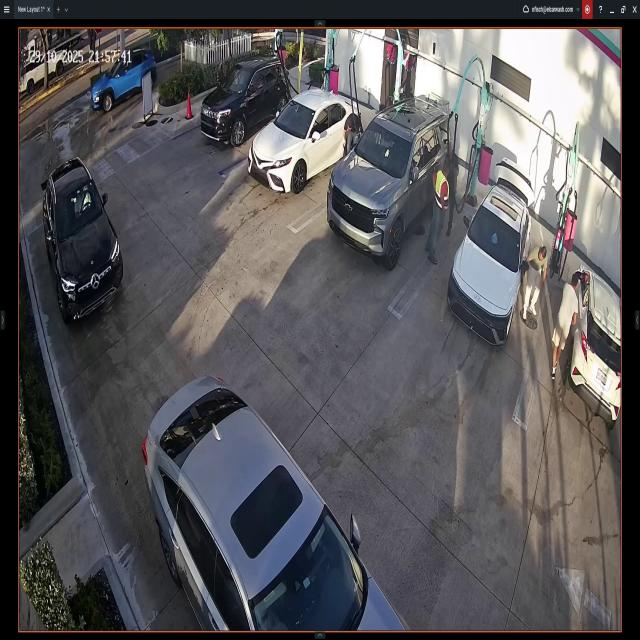Car: (145, 369, 403, 633), (329, 95, 450, 263), (451, 159, 532, 347), (40, 162, 122, 323), (248, 83, 357, 190), (569, 262, 620, 423), (198, 53, 288, 143), (91, 48, 157, 110)
